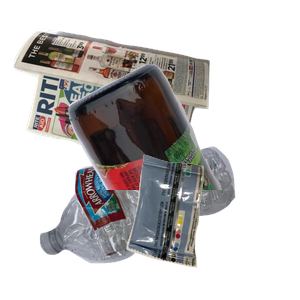glass: (66, 61, 300, 241)
paper: (11, 27, 213, 185)
plastic: (37, 144, 265, 300)
trash: (124, 152, 300, 300)
